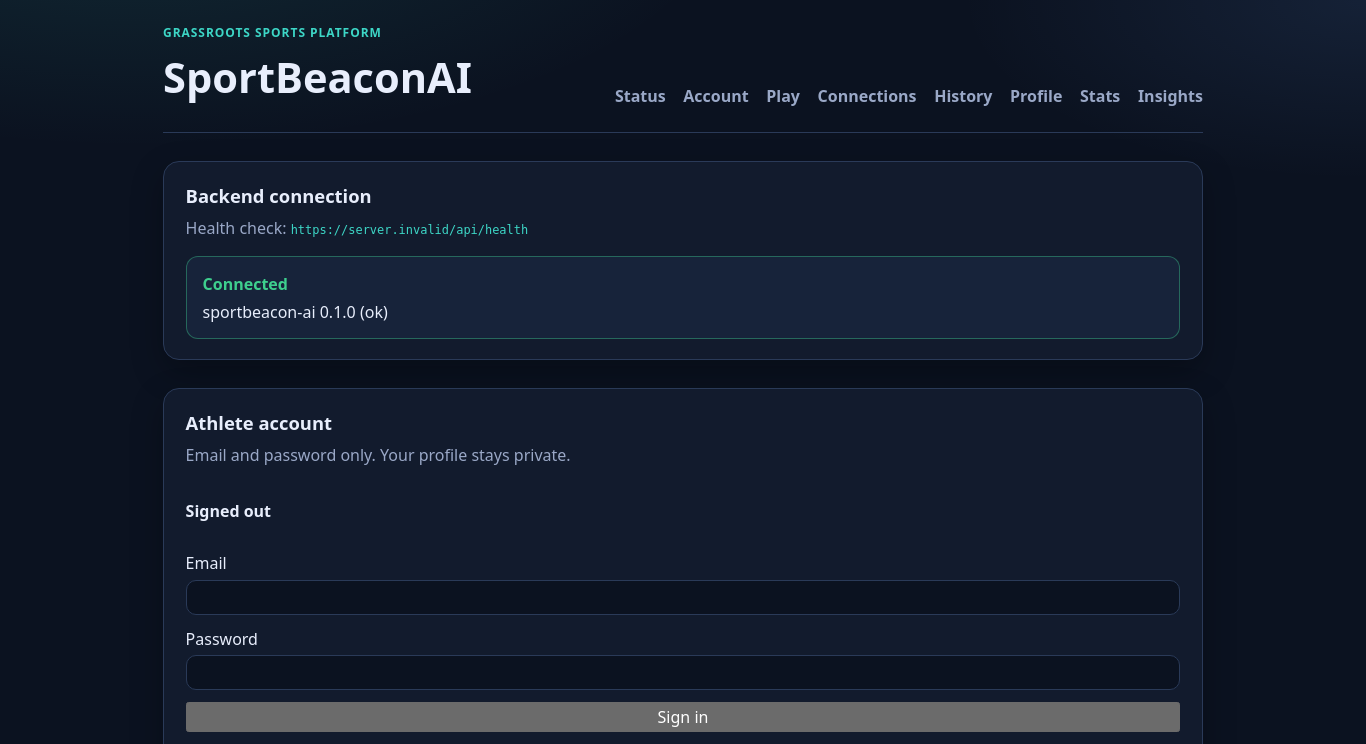
it: Phase 3B athlete connections › declines an incoming request without creating a connection
Type "ada@example.com" into the field labelled "Email".
click(683, 597); type("ada@example.com")  # box top-left (186, 580), bottom-right (1180, 615)
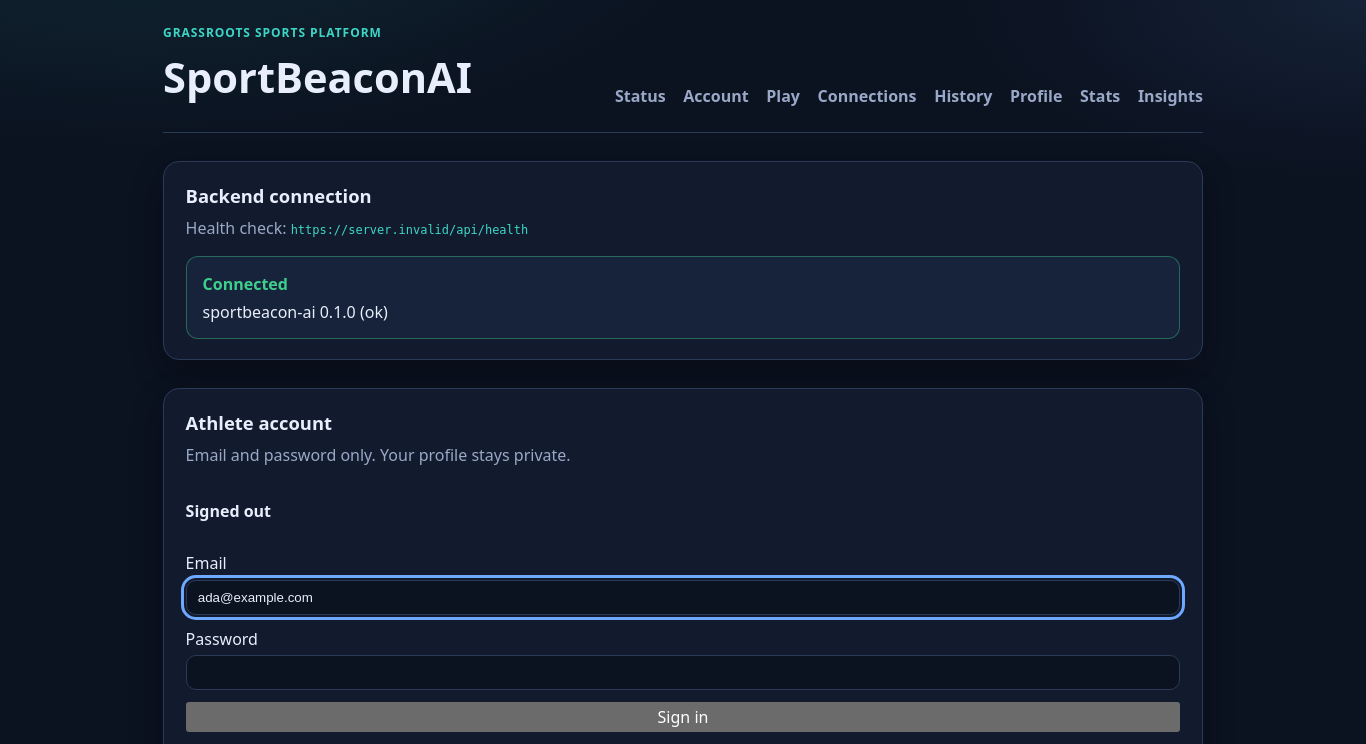
Type "secret1" into the password field labelled "Password".
click(683, 673); type("secret1")  # box top-left (186, 655), bottom-right (1180, 690)
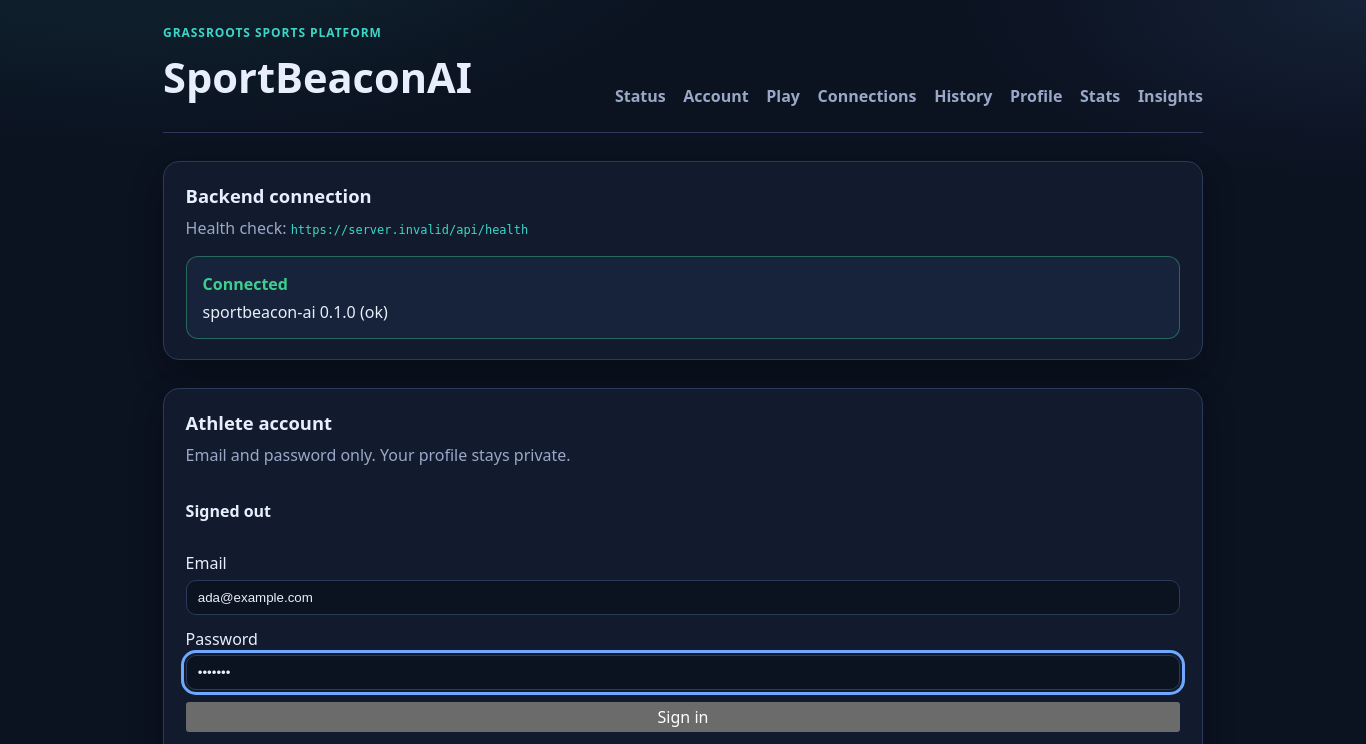
Click the button "Sign in".
click(683, 717)  # box top-left (186, 702), bottom-right (1180, 732)
(page scrolled)
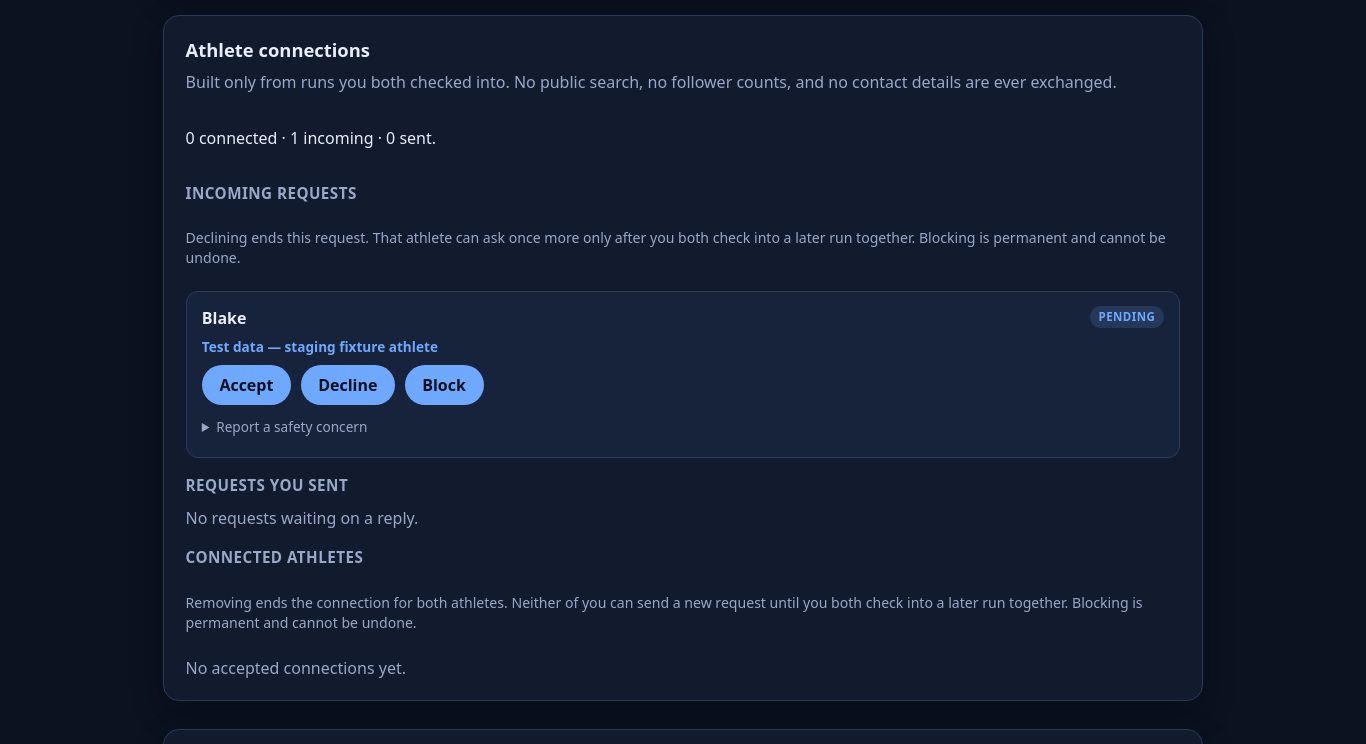
Click the button with aria-label "Decline the connection request from Blake".
click(348, 385)  # box top-left (301, 365), bottom-right (395, 405)
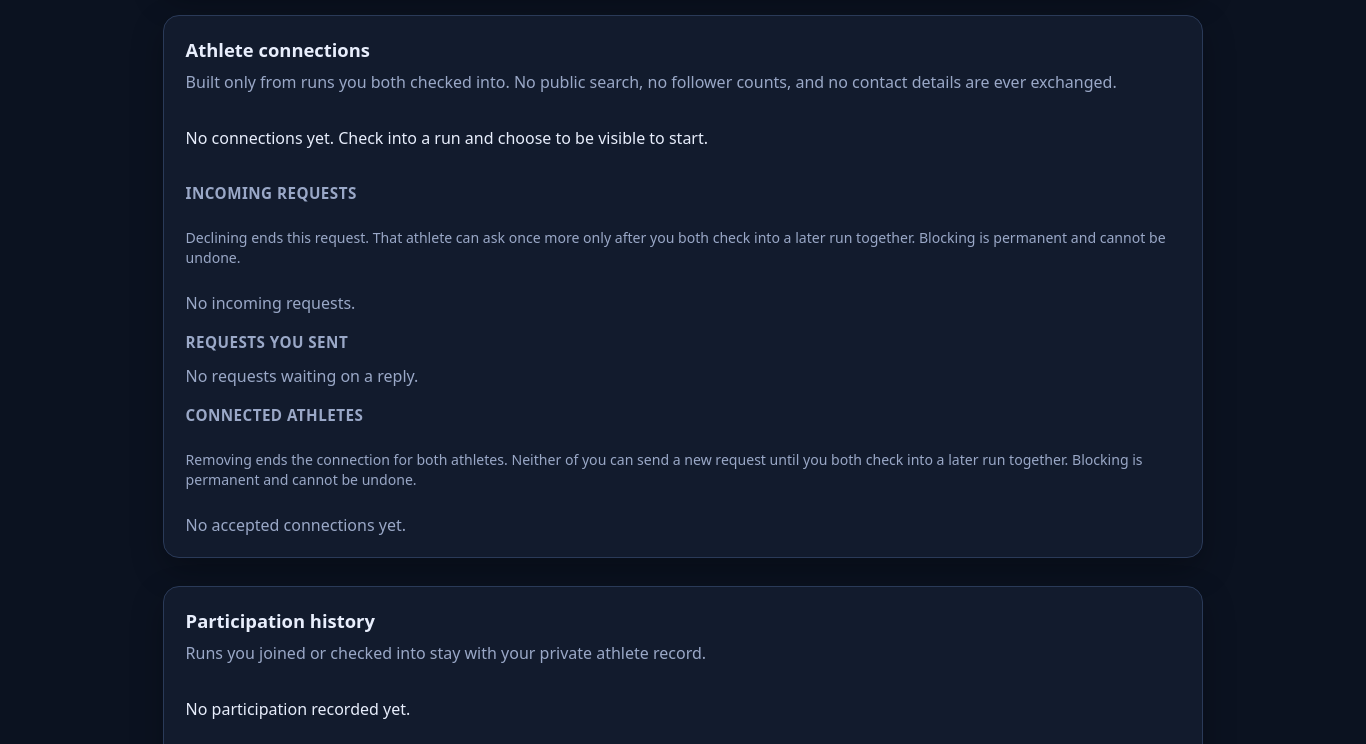
expect the element with test id "connections-accepted" shows "No accepted connections yet.": met, box top-left (186, 514), bottom-right (406, 536)
expect the text with test id "connections-state" reads "No connections yet. Check into a run and choose to be visible to start.": met, box top-left (186, 127), bottom-right (708, 149)
